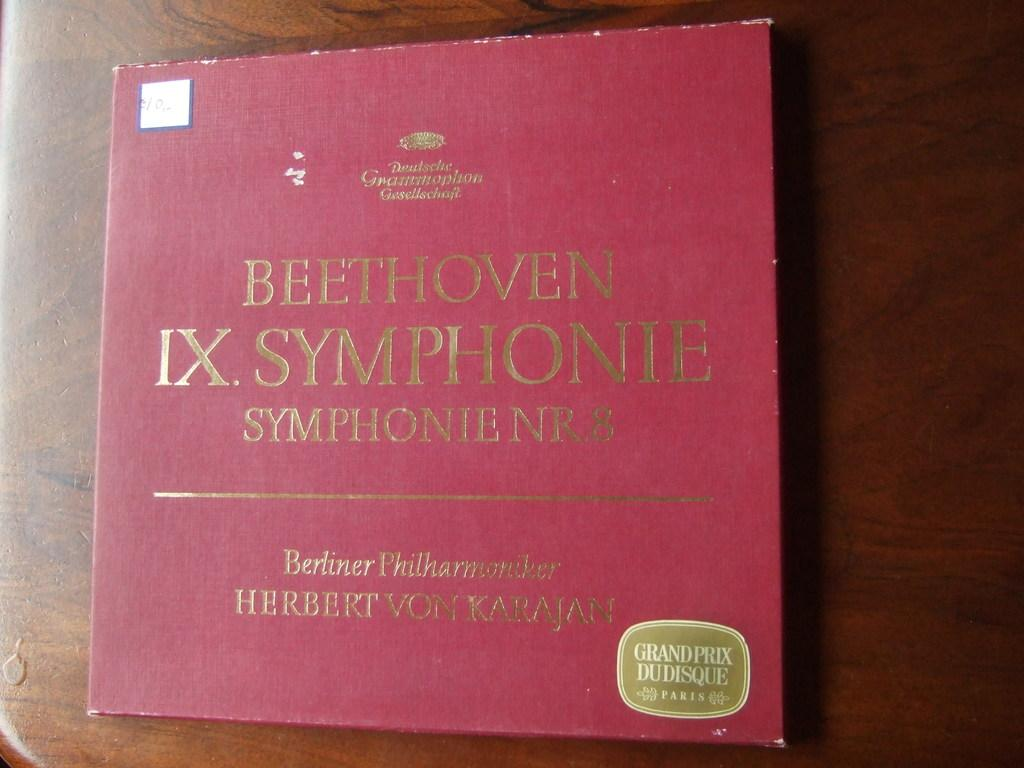book: (85, 50, 836, 757)
